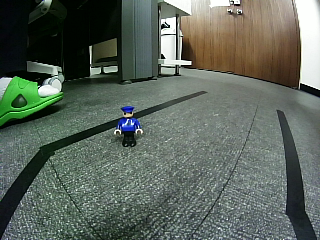person: (114, 106, 144, 147)
